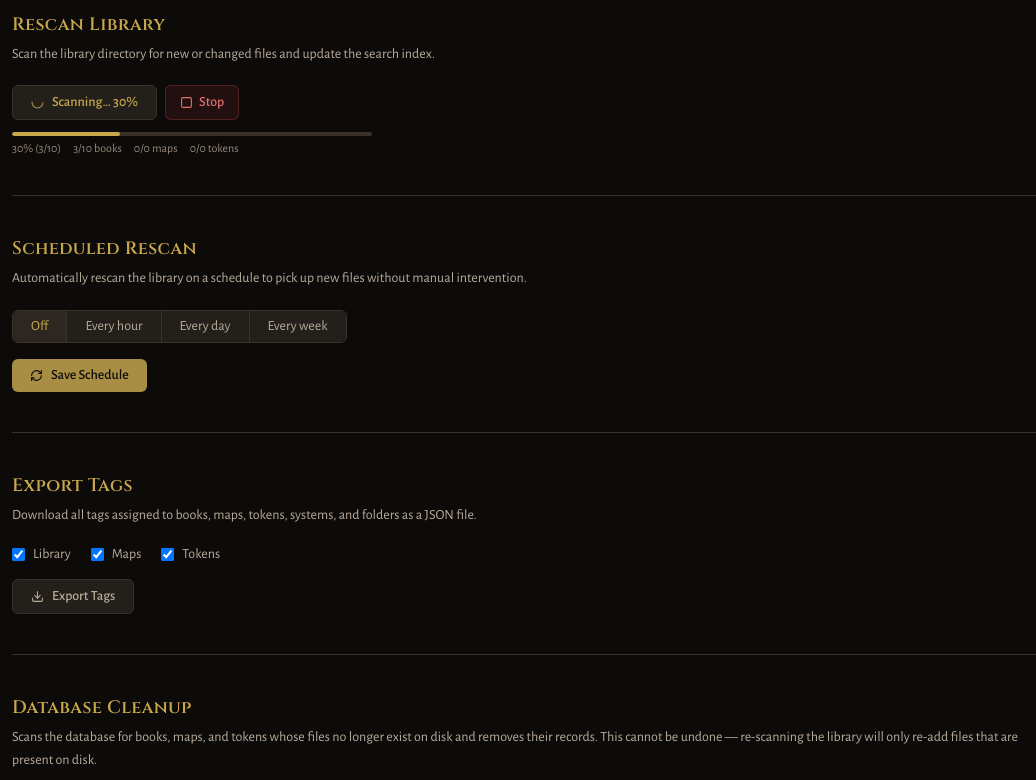
Test: MaintenanceTab — RescanSection › shows "Stopping…" after Stop is clicked
What coordinates should you click on to do the following:
click the button "Stop"
I would click on:
 (202, 103)
Its box is [165,85,239,120].
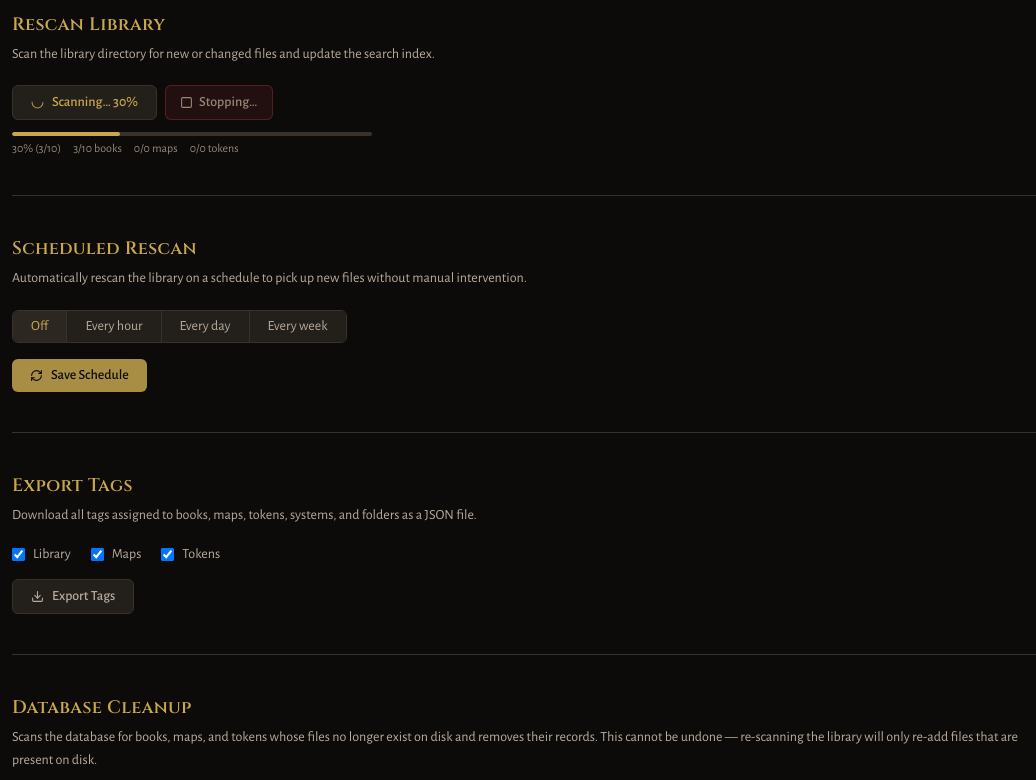
Result: the button "Stopping…" is shown at [165,85,272,120]
